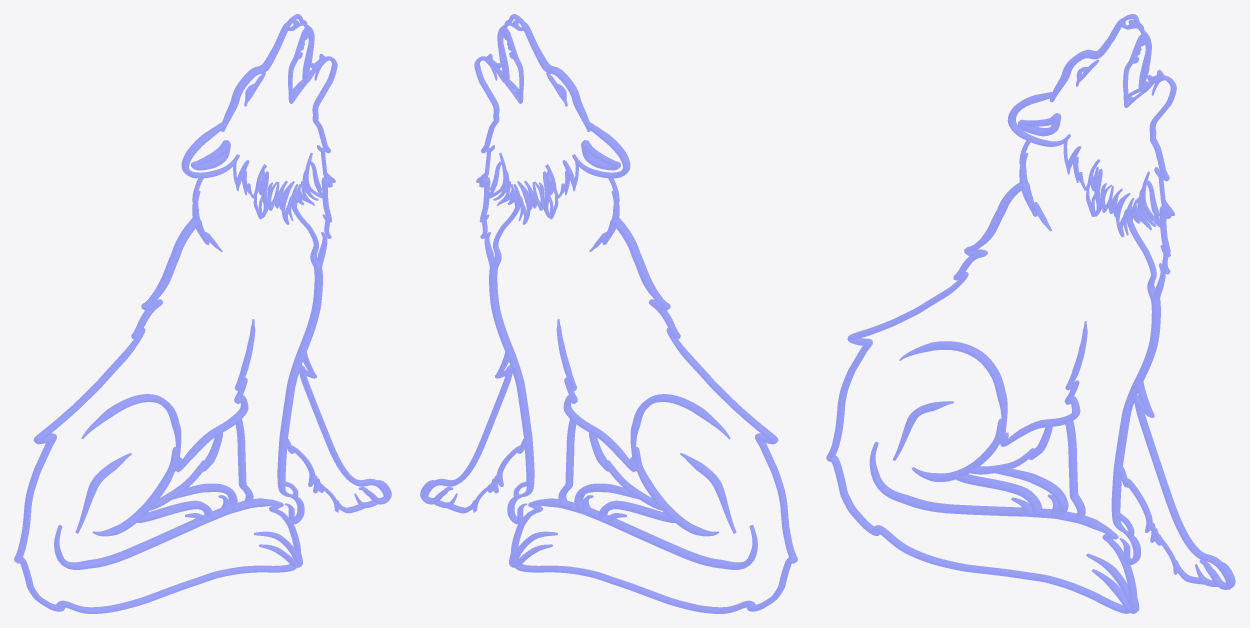
Rendered from wolf-constellation-dhazele-2.glb.
The picture shows the model from 3 angles, left to right: view 1: azimuth 30°, elevation 25°; view 2: azimuth 150°, elevation 25°; view 3: azimuth 330°, elevation 25°; orthographic projection. The views are drawn at different scales.
Visible parts, largest first — view 1: wolf; view 2: wolf; view 3: wolf.
Boxes of the visible parts, <box> form: wolf: <box>14,14,391,613</box>; wolf: <box>420,14,797,613</box>; wolf: <box>826,14,1235,613</box>.
Bounding box in the file's own units: 2.43 × 3.42 × 0.06.
